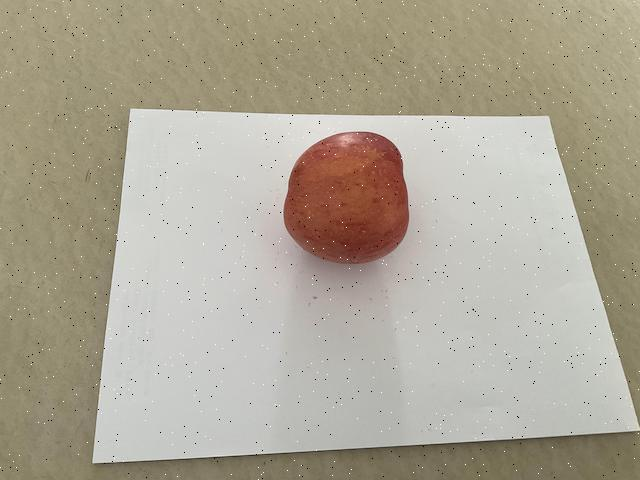apple: (279, 128, 416, 270)
